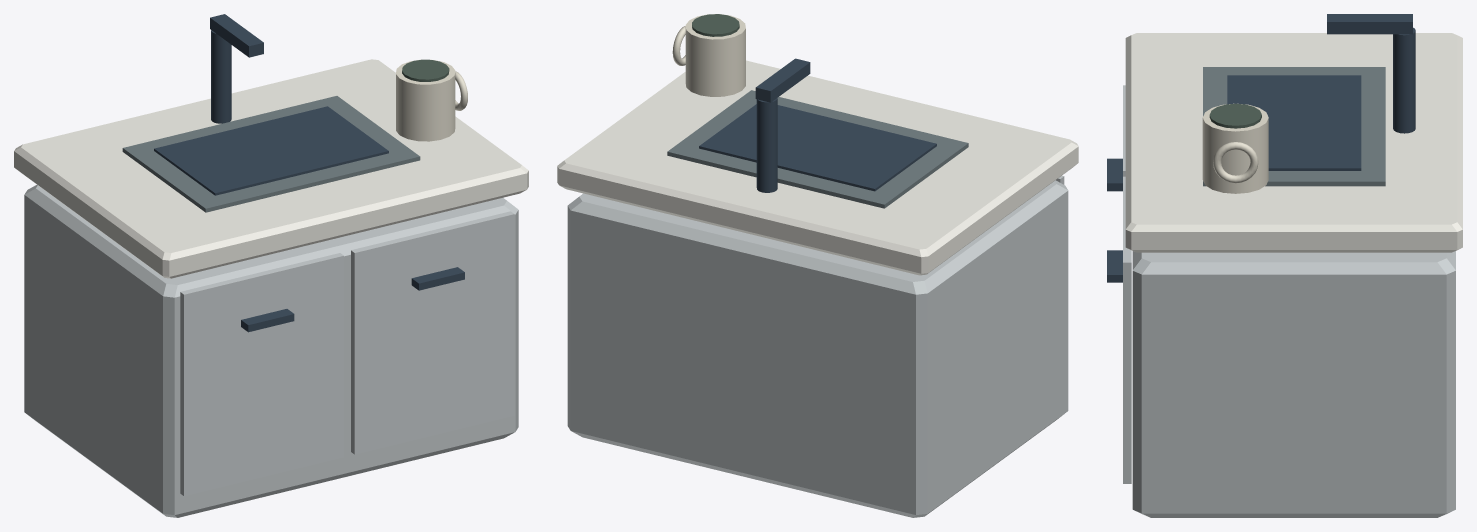
File: v18_interior_sink_cabinet.glb
3 views of the same model, side by side, from view 1: azimuth 30°, elevation 25°; view 2: azimuth 150°, elevation 25°; view 3: azimuth 270°, elevation 25° (orthographic). The views are drawn at different scales.
Parts seen in each view (by area): view 1: _MeshInstance3D_4749, _MeshInstance3D_4750, _MeshInstance3D_4751, _MeshInstance3D_4753, _MeshInstance3D_4756, _MeshInstance3D_4755, _MeshInstance3D_4759, _MeshInstance3D_4757, _MeshInstance3D_4758, _MeshInstance3D_4760, _MeshInstance3D_4752, _MeshInstance3D_4754; view 2: _MeshInstance3D_4749, _MeshInstance3D_4750, _MeshInstance3D_4756, _MeshInstance3D_4755, _MeshInstance3D_4759, _MeshInstance3D_4757, _MeshInstance3D_4758, _MeshInstance3D_4760; view 3: _MeshInstance3D_4749, _MeshInstance3D_4750, _MeshInstance3D_4756, _MeshInstance3D_4755, _MeshInstance3D_4759, _MeshInstance3D_4753, _MeshInstance3D_4757, _MeshInstance3D_4758, _MeshInstance3D_4760, _MeshInstance3D_4761, _MeshInstance3D_4752, _MeshInstance3D_4754.
Boxes of the visible parts, bbox=[...] form: _MeshInstance3D_4749: bbox=[24, 185, 518, 517]; _MeshInstance3D_4750: bbox=[14, 59, 528, 278]; _MeshInstance3D_4751: bbox=[180, 253, 343, 496]; _MeshInstance3D_4753: bbox=[351, 211, 514, 454]; _MeshInstance3D_4756: bbox=[154, 106, 388, 195]; _MeshInstance3D_4755: bbox=[122, 96, 420, 212]; _MeshInstance3D_4759: bbox=[396, 59, 455, 141]; _MeshInstance3D_4757: bbox=[211, 30, 231, 123]; _MeshInstance3D_4758: bbox=[210, 14, 263, 57]; _MeshInstance3D_4760: bbox=[402, 59, 449, 81]; _MeshInstance3D_4752: bbox=[241, 309, 294, 332]; _MeshInstance3D_4754: bbox=[411, 267, 464, 290]; _MeshInstance3D_4749: bbox=[567, 180, 1068, 517]; _MeshInstance3D_4750: bbox=[557, 60, 1078, 275]; _MeshInstance3D_4756: bbox=[699, 104, 936, 191]; _MeshInstance3D_4755: bbox=[667, 90, 968, 208]; _MeshInstance3D_4759: bbox=[685, 14, 745, 96]; _MeshInstance3D_4757: bbox=[756, 98, 777, 192]; _MeshInstance3D_4758: bbox=[755, 58, 810, 102]; _MeshInstance3D_4760: bbox=[692, 14, 739, 36]; _MeshInstance3D_4749: bbox=[1132, 251, 1455, 517]; _MeshInstance3D_4750: bbox=[1125, 33, 1462, 252]; _MeshInstance3D_4756: bbox=[1227, 75, 1361, 170]; _MeshInstance3D_4755: bbox=[1203, 67, 1385, 186]; _MeshInstance3D_4759: bbox=[1202, 103, 1268, 193]; _MeshInstance3D_4753: bbox=[1123, 176, 1131, 483]; _MeshInstance3D_4757: bbox=[1393, 27, 1415, 133]; _MeshInstance3D_4758: bbox=[1327, 14, 1412, 34]; _MeshInstance3D_4760: bbox=[1209, 103, 1261, 128]; _MeshInstance3D_4761: bbox=[1213, 142, 1258, 183]; _MeshInstance3D_4752: bbox=[1107, 158, 1122, 191]; _MeshInstance3D_4754: bbox=[1107, 250, 1122, 282].
Bounding box in the file's own units: 1.55 × 1.5 × 1.18.
